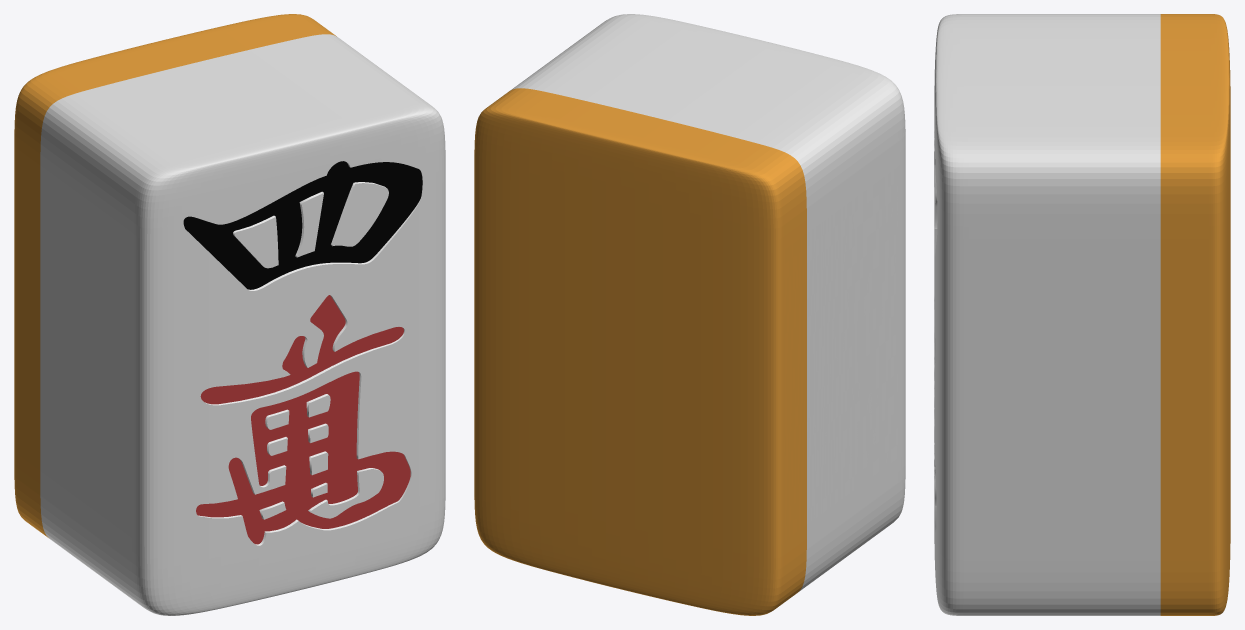
The model's file is Man4.fbx.
3 views of the same model, side by side, from view 1: azimuth 30°, elevation 25°; view 2: azimuth 150°, elevation 25°; view 3: azimuth 270°, elevation 25° (orthographic). The views are drawn at different scales.
Visible parts, largest first — view 1: Man4; view 2: Man4; view 3: Man4.
Part boxes in pixels (x1,y1,x2,y2): Man4: (14, 14, 445, 615); Man4: (474, 14, 905, 615); Man4: (934, 14, 1230, 615).
Bounding box in the file's own units: 2 × 2.8 × 1.59.
